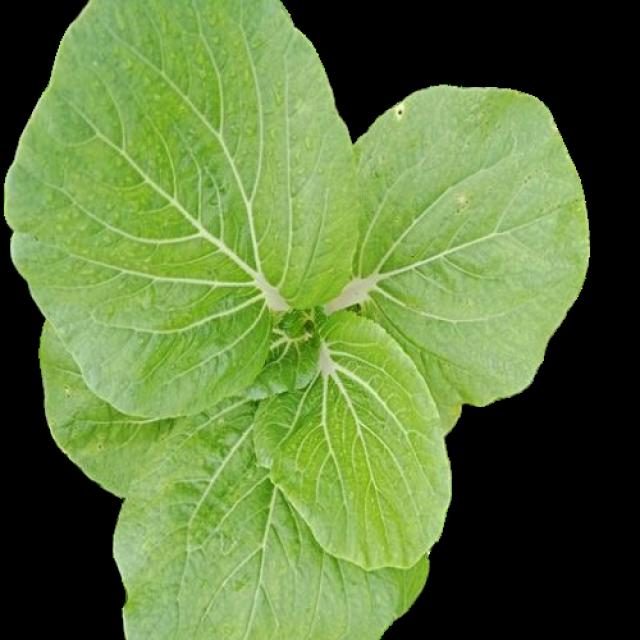mature: (1, 1, 582, 640)
unhealthy: (360, 87, 581, 417)
